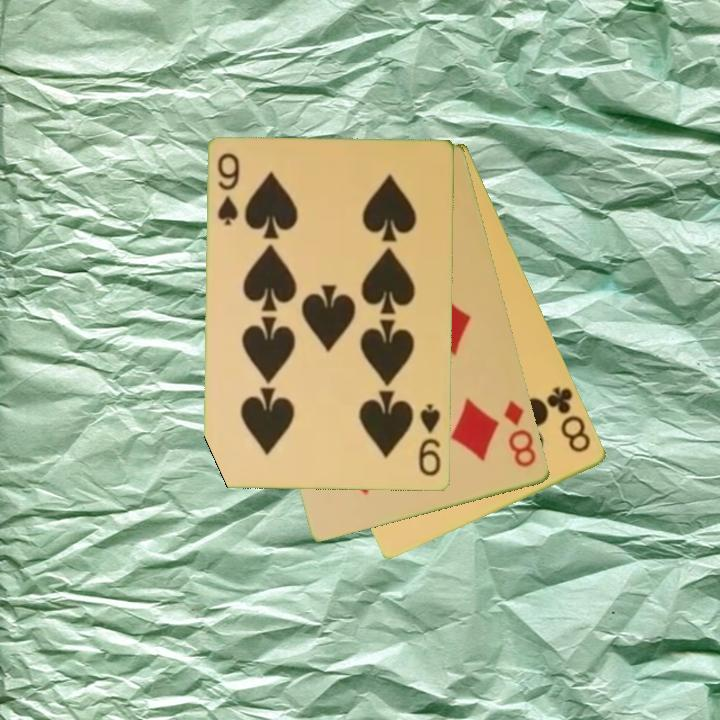8c: (543, 383, 595, 456)
8d: (500, 396, 540, 471)
9s: (415, 401, 444, 480), (214, 150, 243, 229)
